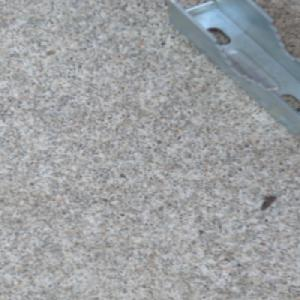ClampPart: (166, 0, 300, 133)
